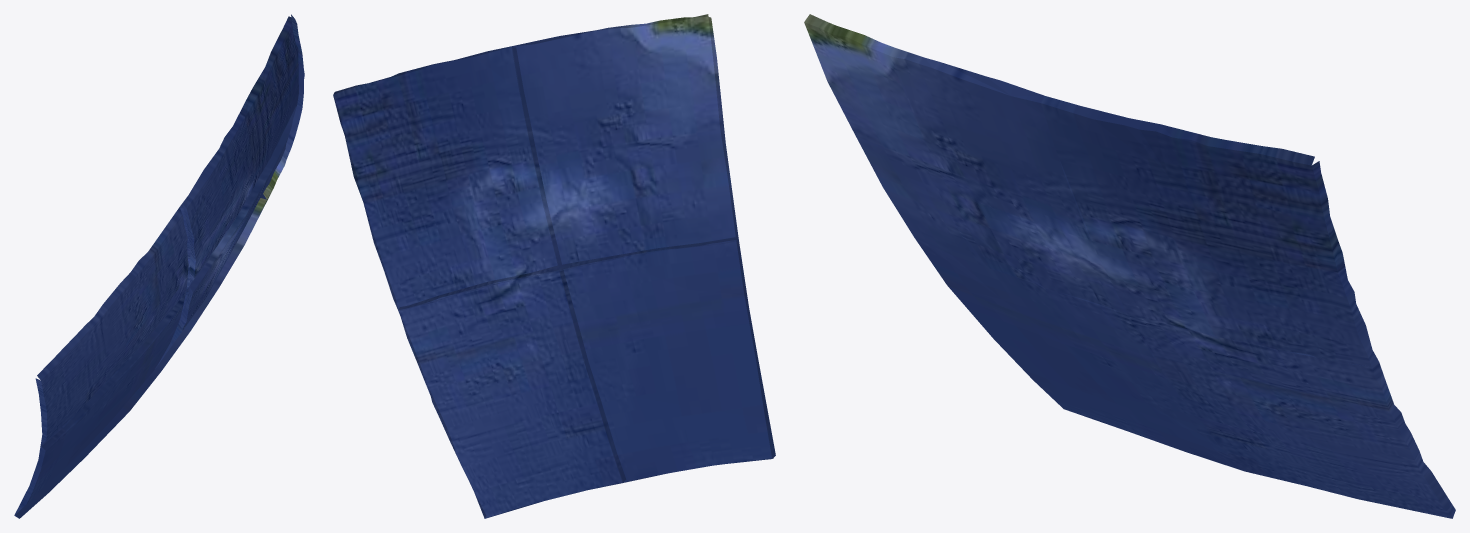
3 renders of one model, left to right at view 1: azimuth 30°, elevation 25°; view 2: azimuth 150°, elevation 25°; view 3: azimuth 270°, elevation 25°, orthographic. The views are drawn at different scales.
Bounding box in the file's own units: 2283628 × 2102769 × 2468048.
Materials: 1 (1 with a texture image).
